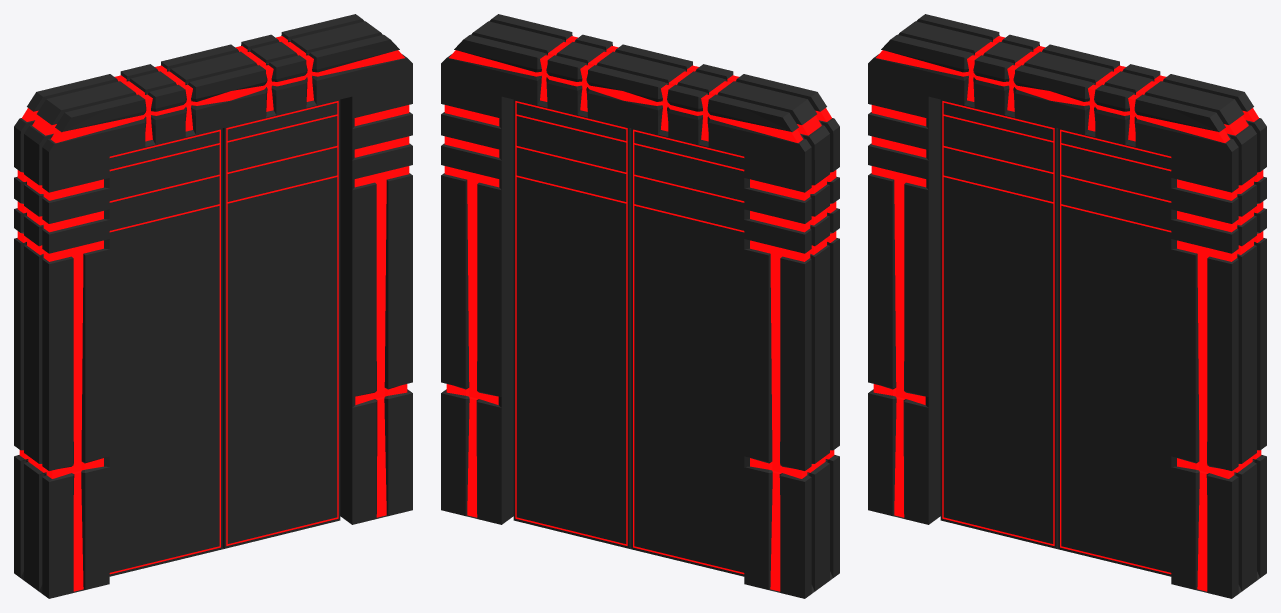
File: The Big Door_Deactivated.fbx
3 renders of one model, left to right at view 1: azimuth 30°, elevation 25°; view 2: azimuth 150°, elevation 25°; view 3: azimuth 330°, elevation 25°, orthographic.
Parts seen in each view (by area): view 1: Main Door; view 2: Main Door; view 3: Main Door.
Boxes of the visible parts, box(x1,y1,x2,y2) form: Main Door: box(14, 14, 412, 598); Main Door: box(441, 14, 839, 598); Main Door: box(868, 14, 1266, 598).
Size of the model in its own units: 1200 by 200 by 1501.
